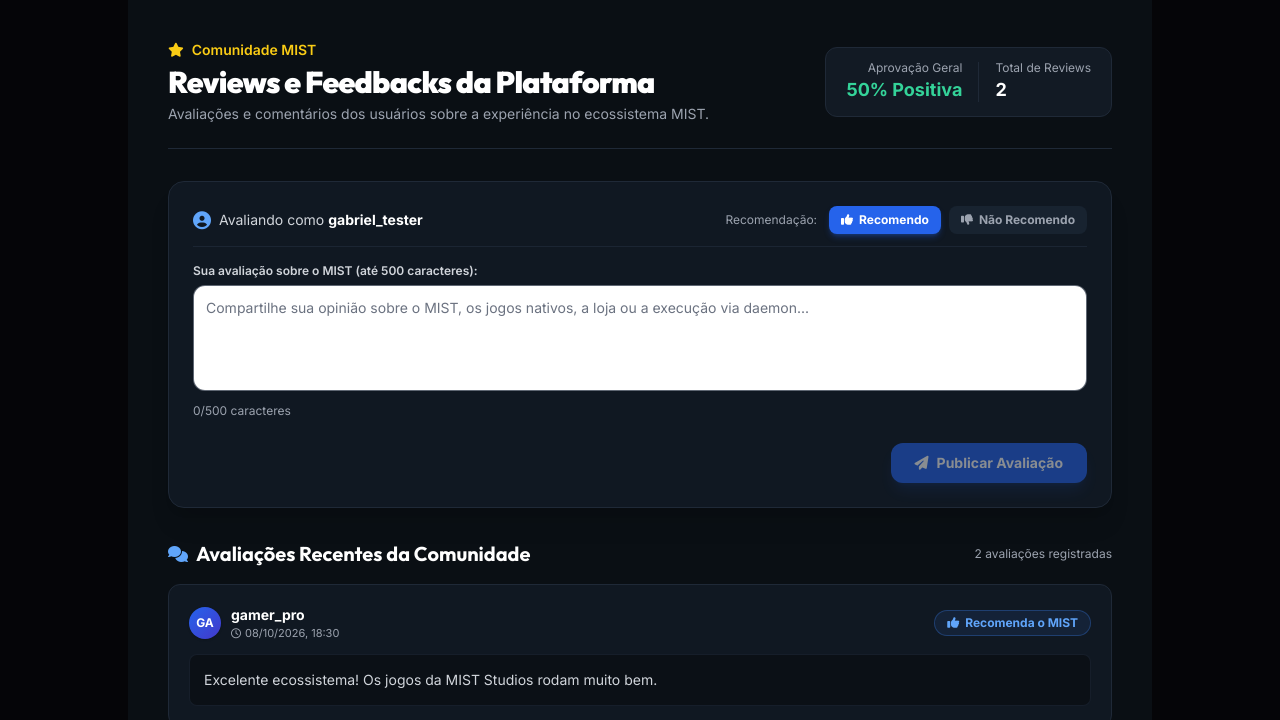
Test: Reviews Page Component › deve atualizar o contador de caracteres e limitar o tamanho a 500
Replace the text in the text box with test id "review-textarea" with "Teste de feedback": (640, 338) [193,285,1087,391]
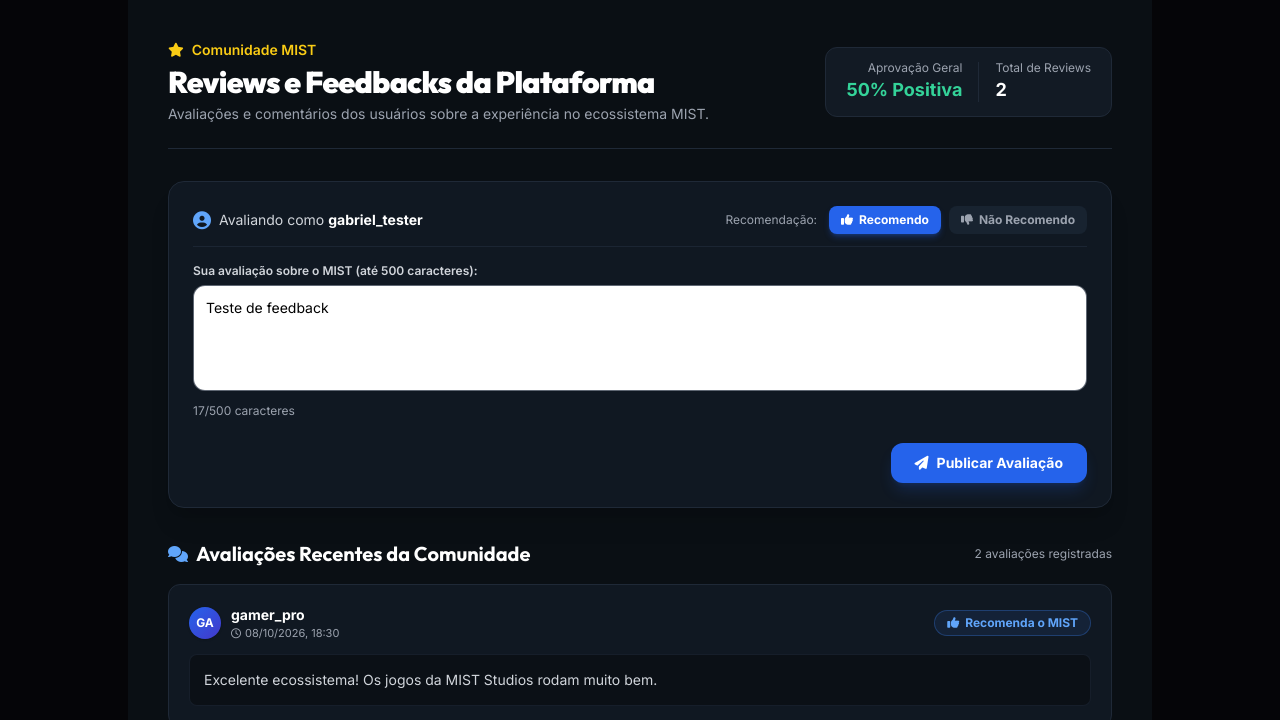
Now the text "17/500 caracteres" is shown, box [193,403,295,419]
